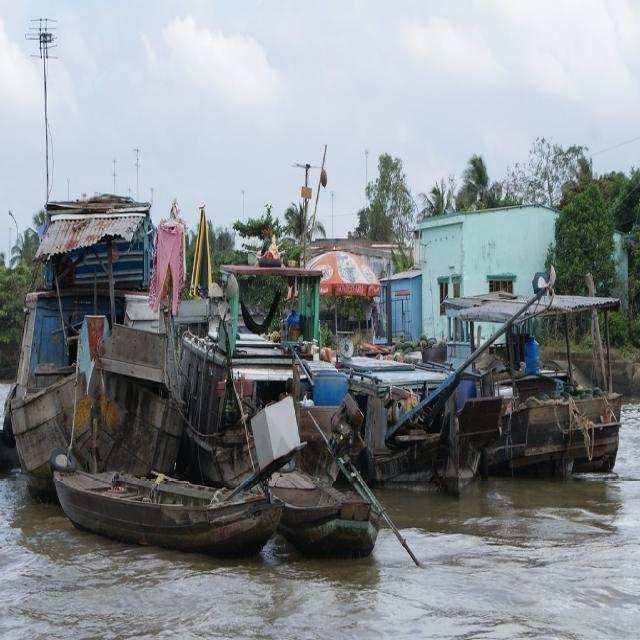boat: (468, 279, 636, 484), (42, 453, 286, 559)
